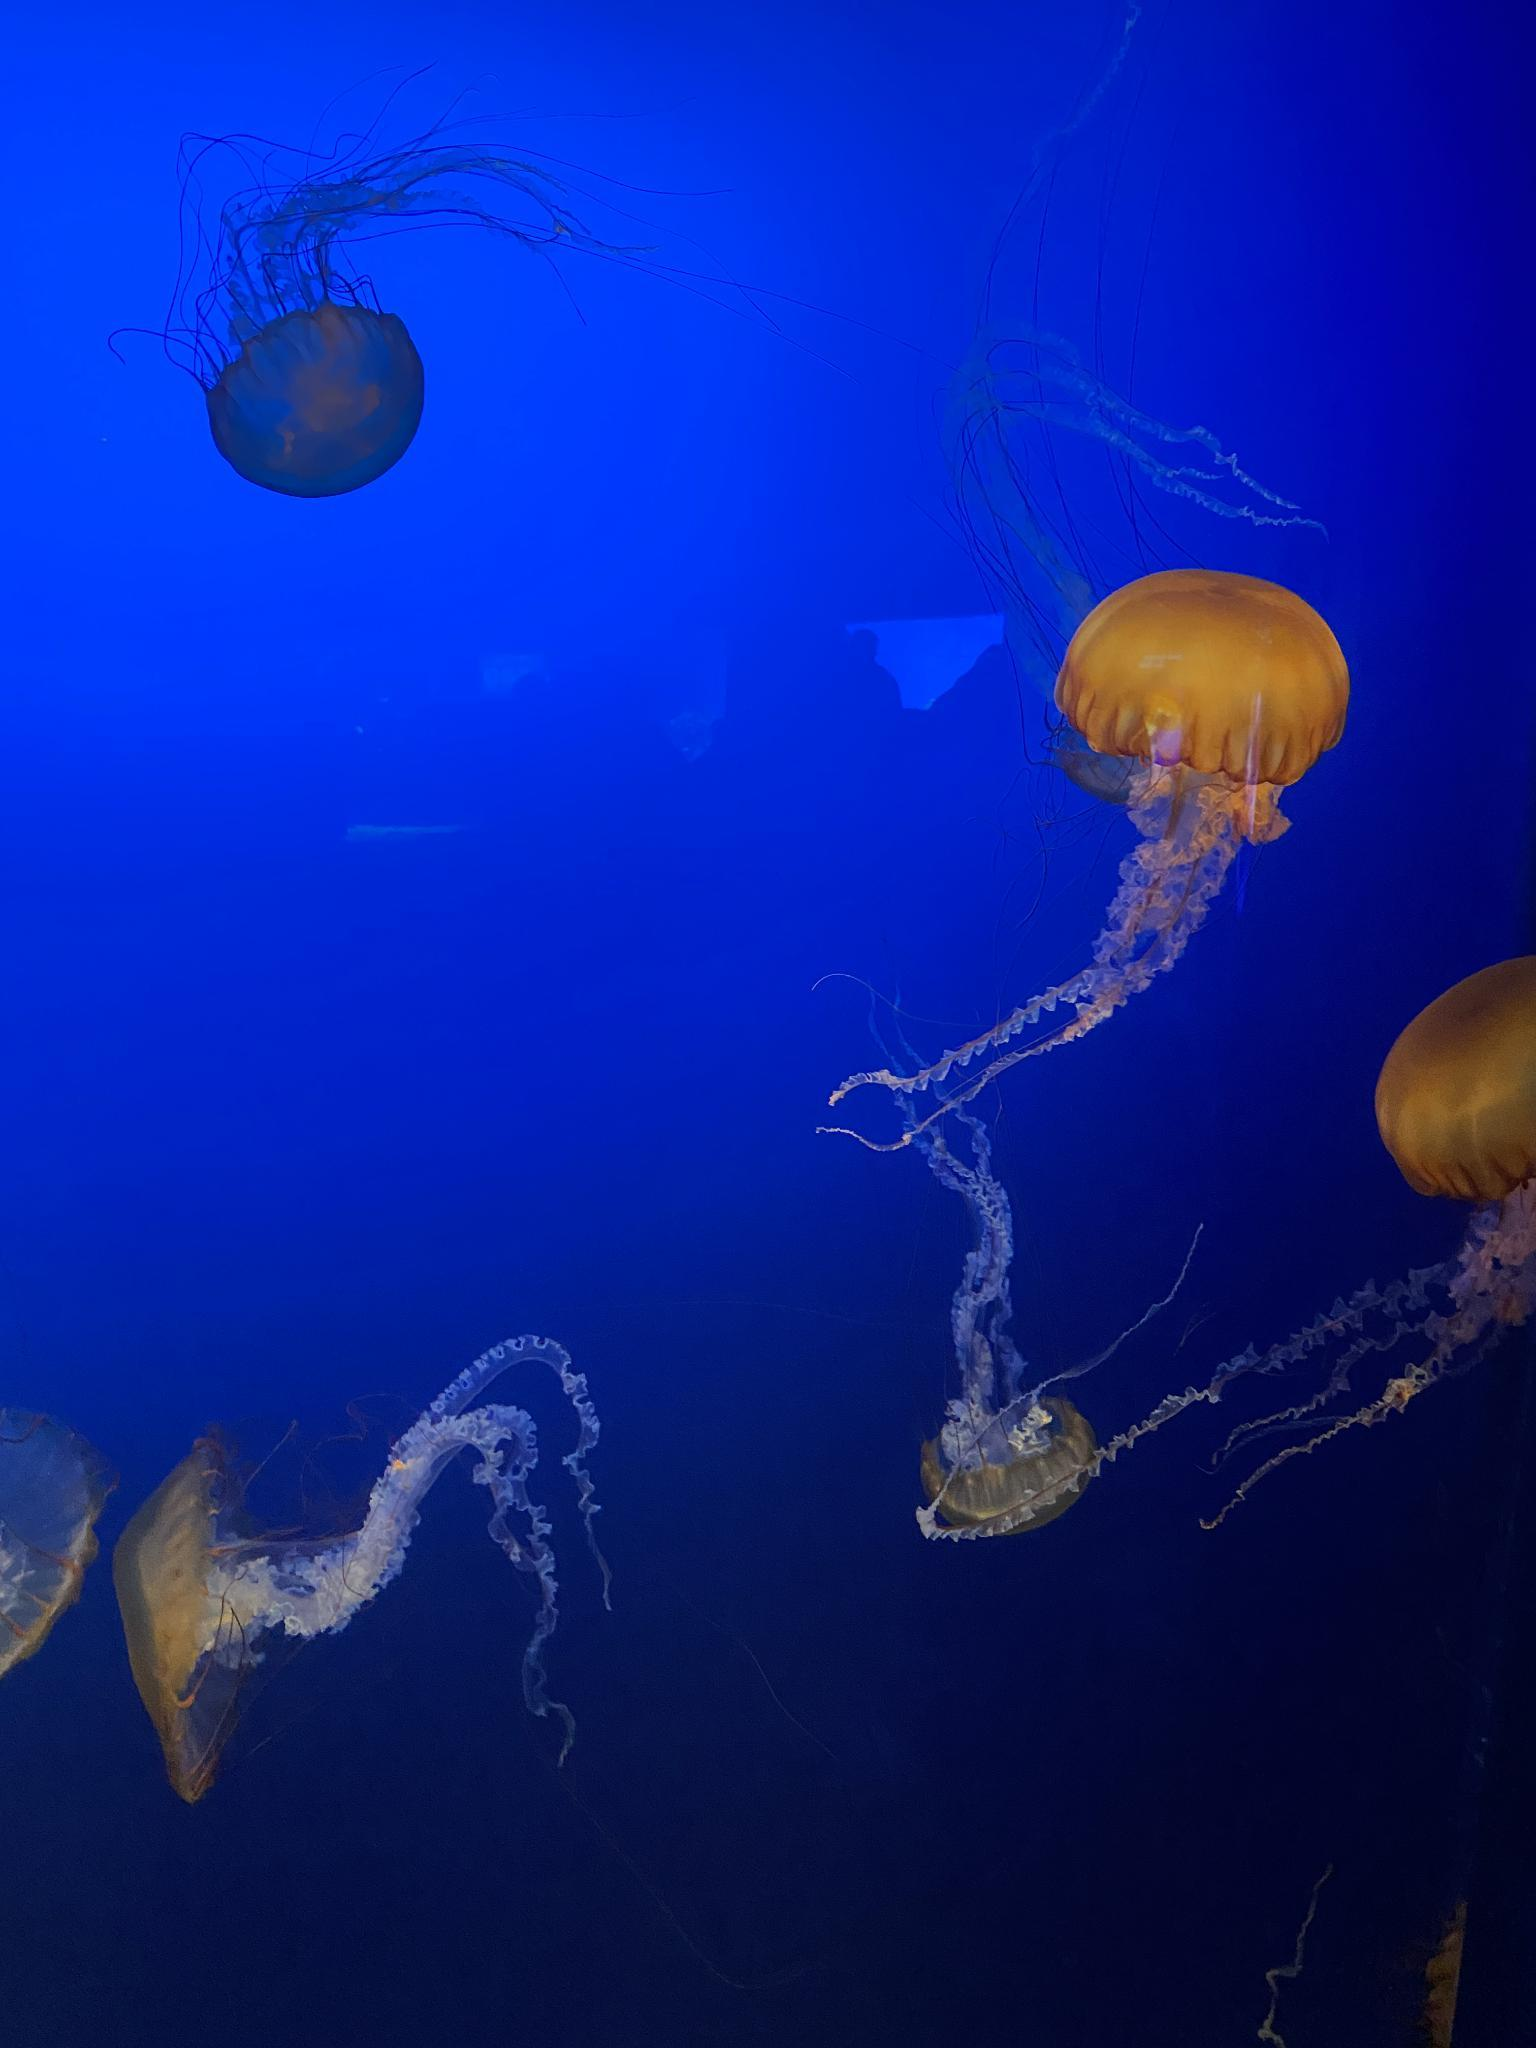jellyfish: (1055, 568, 1347, 787), (119, 1434, 250, 1808), (208, 305, 432, 503), (1375, 948, 1536, 1203), (0, 1408, 102, 1705), (921, 1400, 1092, 1535)
